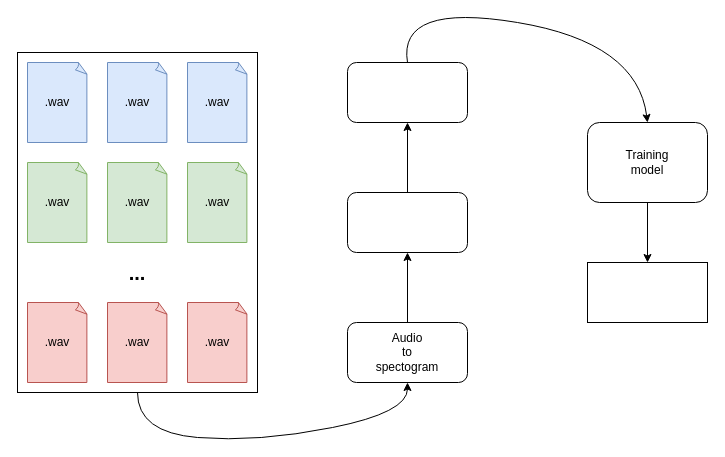
The diagram is 725 pixels wide and 457 high, and some of its shapes have lost their labels. Each missing label, with the box of its shape:
Model: (586, 262, 708, 322)
Padding Sequences: (346, 62, 468, 122)
Quantize vectors: (346, 192, 468, 252)
